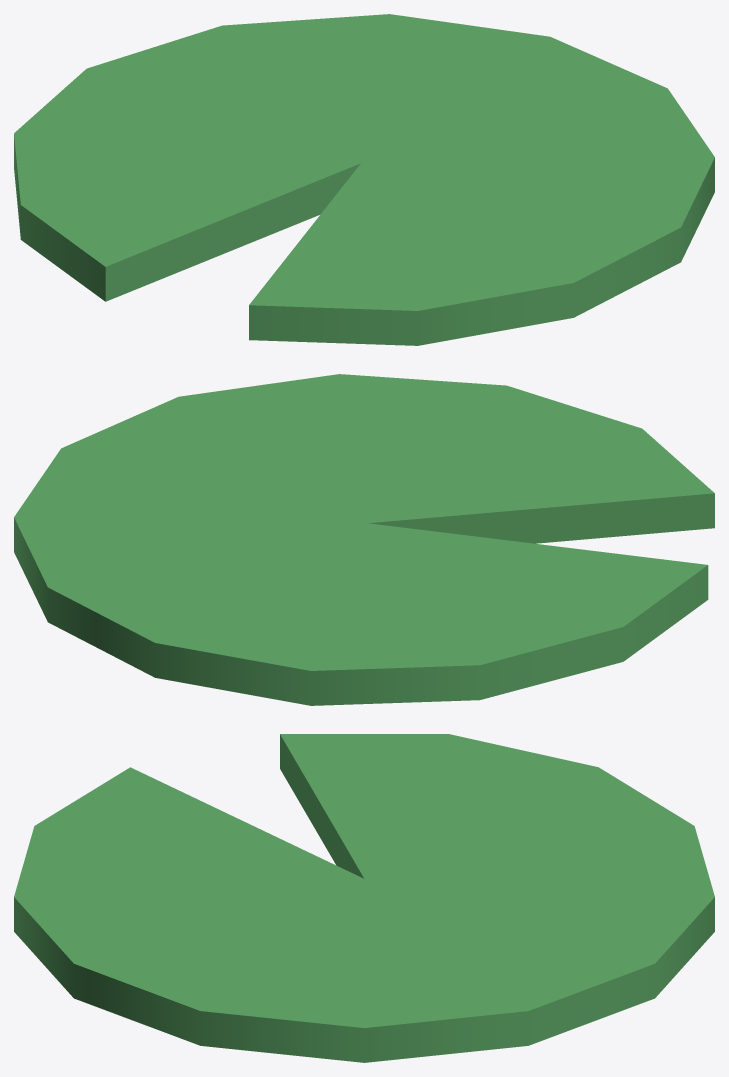
Rendered from LilyPad.fbx.
The picture shows the model from 3 angles, top to bottom: view 1: azimuth 30°, elevation 25°; view 2: azimuth 150°, elevation 25°; view 3: azimuth 270°, elevation 25°; orthographic projection.
Visible parts, largest first — view 1: pCylinder1; view 2: pCylinder1; view 3: pCylinder1.
Part boxes in pixels (x1=…): pCylinder1: x1=14, y1=14, x2=714, y2=345; pCylinder1: x1=14, y1=374, x2=714, y2=705; pCylinder1: x1=14, y1=734, x2=714, y2=1062.
Size of the model in its own units: 1.93 by 0.1066 by 1.95.
